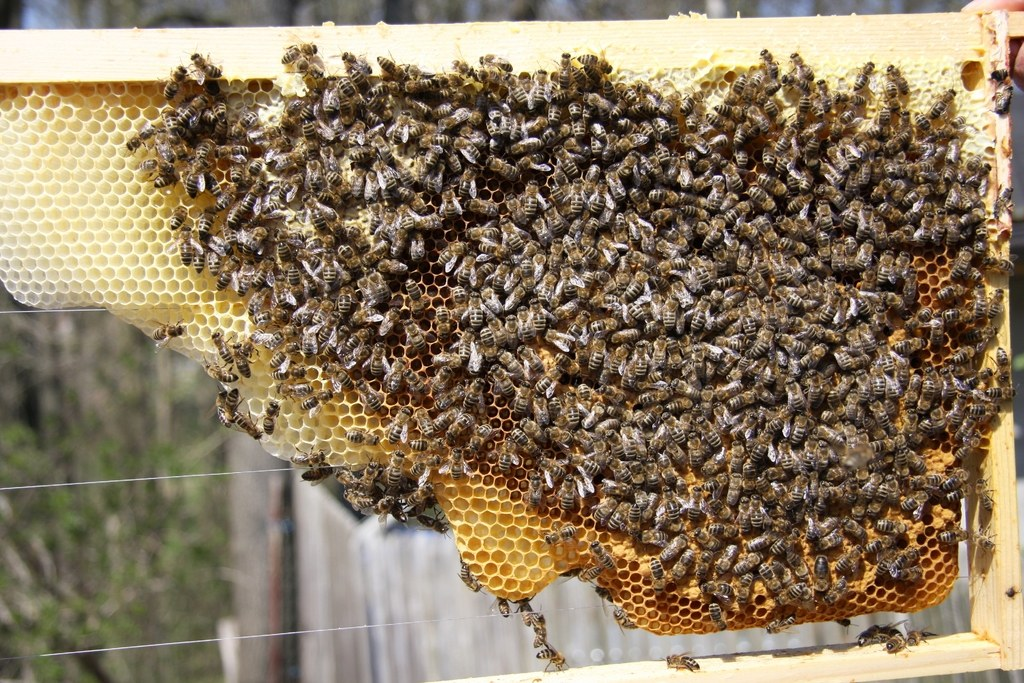bee: (0, 12, 1023, 682), (111, 38, 1023, 675), (566, 447, 604, 500), (314, 239, 348, 289), (779, 475, 817, 519), (653, 486, 691, 529), (525, 66, 556, 117), (454, 373, 488, 418), (679, 482, 712, 528), (198, 356, 242, 390), (378, 406, 414, 447), (961, 160, 993, 205), (587, 540, 621, 582), (371, 52, 410, 88), (293, 457, 337, 488), (147, 320, 192, 350), (355, 342, 392, 378), (267, 340, 307, 373), (178, 160, 214, 196), (213, 254, 241, 299), (563, 177, 595, 216), (232, 183, 267, 218), (188, 49, 224, 83), (464, 289, 493, 331), (227, 409, 267, 439), (334, 45, 372, 76), (929, 84, 960, 122), (278, 38, 318, 67), (604, 499, 633, 539), (742, 430, 776, 464), (897, 489, 931, 523), (439, 445, 470, 482), (561, 389, 595, 422), (166, 62, 194, 102), (293, 388, 333, 416), (349, 242, 389, 270), (494, 312, 522, 351), (541, 197, 569, 236), (260, 137, 293, 170), (482, 591, 516, 623), (868, 249, 897, 286), (556, 477, 582, 518), (225, 112, 258, 144), (304, 193, 328, 237), (743, 106, 774, 140), (207, 138, 254, 160), (520, 470, 544, 513), (209, 331, 236, 369), (484, 154, 522, 181), (554, 47, 579, 88), (385, 358, 417, 390), (364, 199, 394, 233), (552, 149, 586, 179), (621, 267, 650, 302), (296, 87, 322, 126), (369, 305, 401, 336), (417, 504, 449, 535), (321, 360, 354, 390), (839, 513, 872, 543), (577, 47, 611, 76), (949, 413, 978, 447), (986, 252, 1020, 281), (519, 179, 543, 220), (356, 378, 384, 413), (359, 272, 385, 309), (605, 452, 636, 483), (430, 407, 464, 435), (872, 555, 906, 583), (902, 305, 936, 333), (267, 368, 312, 389), (660, 411, 687, 446), (515, 304, 539, 343), (989, 348, 1015, 384), (332, 469, 365, 497), (242, 286, 269, 320), (343, 323, 378, 349), (503, 69, 529, 104), (717, 392, 758, 414), (333, 125, 369, 150), (406, 453, 442, 478), (547, 423, 577, 453), (703, 221, 733, 251), (698, 474, 729, 503), (805, 518, 844, 541), (128, 124, 156, 156), (440, 243, 468, 275), (511, 425, 539, 457), (789, 51, 817, 83), (941, 363, 960, 410), (852, 204, 876, 241), (212, 386, 233, 428), (855, 56, 877, 96), (325, 325, 354, 355), (310, 298, 334, 334), (318, 313, 342, 349), (431, 367, 458, 399), (548, 516, 575, 548), (232, 336, 253, 377), (406, 481, 432, 514), (755, 470, 781, 503), (952, 245, 974, 284), (493, 365, 518, 399), (497, 439, 522, 473), (532, 368, 561, 397), (719, 162, 748, 191), (241, 229, 269, 259), (454, 561, 482, 591), (775, 122, 799, 157), (817, 183, 847, 211), (943, 344, 978, 368), (409, 274, 428, 318), (724, 470, 742, 516), (785, 377, 808, 413), (888, 60, 911, 96), (469, 423, 493, 457), (994, 184, 1018, 218), (687, 296, 709, 333), (278, 171, 307, 199), (325, 170, 353, 199), (519, 419, 548, 447), (662, 653, 707, 671), (657, 532, 683, 563), (317, 142, 340, 177), (753, 172, 788, 195), (678, 133, 710, 158), (274, 381, 318, 399), (388, 455, 410, 491), (528, 299, 550, 335), (700, 415, 724, 448), (994, 83, 1018, 116), (182, 99, 211, 126), (627, 210, 653, 240), (754, 543, 793, 563), (474, 49, 511, 70), (334, 76, 359, 107), (279, 235, 301, 270), (660, 450, 682, 485), (409, 404, 433, 436), (703, 573, 735, 597), (243, 325, 271, 352), (984, 289, 1005, 325), (701, 518, 730, 544), (346, 481, 371, 511), (574, 552, 596, 586), (939, 179, 963, 210), (869, 215, 888, 254), (628, 457, 648, 494), (287, 302, 319, 325), (594, 494, 615, 529), (751, 217, 776, 246), (284, 265, 304, 301), (609, 605, 639, 629), (740, 70, 764, 100), (905, 140, 941, 160), (152, 167, 186, 188), (514, 381, 531, 423), (750, 486, 767, 528), (765, 611, 796, 634), (781, 71, 812, 94), (191, 236, 207, 280), (858, 627, 902, 643), (433, 305, 451, 344), (884, 71, 902, 110), (968, 283, 986, 322), (534, 644, 569, 664), (760, 49, 783, 79), (653, 555, 669, 598), (960, 402, 1003, 418), (932, 286, 968, 305), (232, 384, 249, 424), (718, 539, 738, 573), (453, 254, 479, 280), (444, 413, 469, 440), (678, 91, 705, 116), (751, 185, 776, 212), (778, 213, 803, 240), (404, 369, 428, 397), (503, 138, 545, 154), (307, 162, 330, 191), (591, 335, 608, 374), (649, 115, 671, 145), (809, 534, 842, 554), (935, 206, 950, 250), (941, 135, 963, 165), (481, 325, 500, 359), (689, 549, 712, 577), (528, 616, 548, 648), (649, 504, 669, 536), (406, 320, 424, 355), (444, 57, 474, 78), (972, 474, 993, 504), (549, 566, 586, 583), (981, 385, 1018, 402), (705, 495, 724, 528), (512, 598, 537, 623), (956, 431, 979, 458), (905, 152, 936, 172), (379, 163, 401, 191), (726, 72, 748, 100), (805, 432, 820, 473), (716, 102, 750, 120), (935, 473, 969, 491), (490, 318, 511, 347), (751, 81, 783, 100), (582, 62, 607, 86), (784, 191, 814, 211), (961, 330, 996, 347), (632, 491, 654, 518), (737, 494, 753, 531), (385, 224, 404, 255), (590, 181, 609, 212), (335, 286, 356, 314), (707, 112, 735, 133), (569, 233, 586, 267), (825, 383, 842, 417), (347, 147, 383, 163), (808, 368, 824, 404), (820, 76, 836, 112), (906, 110, 929, 135), (469, 345, 488, 375), (680, 192, 710, 211), (818, 552, 833, 590), (154, 133, 175, 160), (280, 320, 307, 341), (783, 579, 810, 600), (456, 333, 476, 361), (740, 535, 768, 555), (792, 550, 808, 585), (870, 520, 910, 534), (957, 184, 975, 215), (575, 383, 598, 407), (767, 518, 796, 537), (886, 474, 905, 503), (966, 184, 985, 213), (253, 310, 279, 331), (902, 259, 915, 301), (363, 498, 393, 516), (760, 563, 779, 591), (899, 445, 922, 468), (678, 550, 694, 583), (545, 397, 570, 418), (814, 481, 829, 516), (788, 414, 806, 443), (970, 265, 988, 294), (424, 432, 444, 458), (914, 169, 940, 189), (140, 160, 177, 174), (630, 502, 644, 539), (870, 486, 889, 513), (600, 478, 632, 494), (799, 482, 815, 514), (412, 233, 427, 267), (649, 186, 683, 201), (817, 441, 834, 471), (897, 628, 931, 643), (963, 368, 993, 385), (703, 605, 726, 627), (194, 140, 214, 165), (214, 190, 239, 210), (824, 578, 844, 603), (368, 166, 383, 199), (164, 100, 177, 138), (604, 133, 621, 162), (931, 308, 960, 325), (939, 527, 968, 544), (367, 464, 381, 499), (929, 318, 943, 353), (527, 398, 545, 425), (202, 207, 216, 241), (305, 325, 322, 353), (230, 157, 246, 186), (389, 500, 410, 522), (223, 207, 243, 230), (346, 431, 381, 444), (760, 146, 776, 174), (402, 77, 428, 94), (586, 245, 607, 266), (369, 261, 409, 272), (796, 85, 810, 116), (947, 219, 961, 250), (734, 555, 759, 572), (885, 630, 906, 650), (964, 158, 979, 186), (603, 77, 619, 103), (170, 210, 188, 233), (267, 402, 279, 436), (648, 454, 660, 488), (863, 535, 892, 549), (605, 430, 624, 451), (353, 163, 365, 196), (818, 202, 830, 235), (309, 121, 319, 160), (895, 249, 910, 275), (897, 564, 923, 579), (740, 570, 751, 605), (854, 243, 870, 267), (844, 552, 863, 572), (211, 117, 225, 144), (970, 238, 984, 265), (897, 452, 908, 486), (714, 132, 734, 150), (682, 111, 698, 133), (944, 159, 957, 186), (771, 96, 781, 131), (961, 210, 975, 234), (835, 92, 865, 103), (820, 421, 838, 439), (598, 588, 617, 605), (969, 220, 986, 239), (180, 227, 188, 267), (978, 532, 998, 548), (900, 550, 922, 564), (208, 245, 218, 275), (847, 125, 877, 135), (904, 474, 924, 489), (452, 284, 468, 302), (691, 531, 709, 545), (838, 110, 856, 124), (881, 101, 890, 129), (213, 99, 228, 115), (939, 491, 969, 499), (406, 438, 427, 449), (178, 141, 188, 161), (973, 209, 986, 224), (953, 117, 968, 126)
insect: (0, 65, 990, 638)
